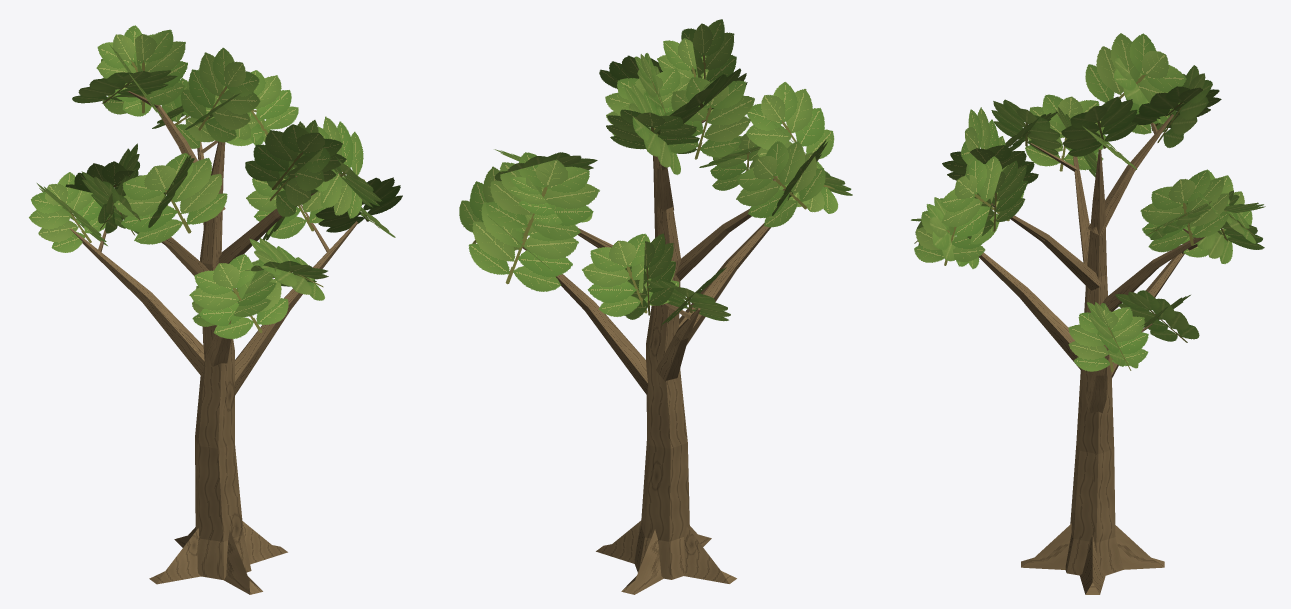
File: Tree_01.glb
3 renders of one model, left to right at view 1: azimuth 30°, elevation 25°; view 2: azimuth 150°, elevation 25°; view 3: azimuth 270°, elevation 25°, orthographic. The views are drawn at different scales.
Parts seen in each view (by area): view 1: Tree_01; view 2: Tree_01; view 3: Tree_01.
Boxes of the visible parts, x1,y1,x2,y2 form: Tree_01: (29,25,402,594); Tree_01: (459,19,852,594); Tree_01: (911,33,1265,594).
Size of the model in its own units: 3.75 by 5.37 by 3.69.
2 materials, 2 textured.
